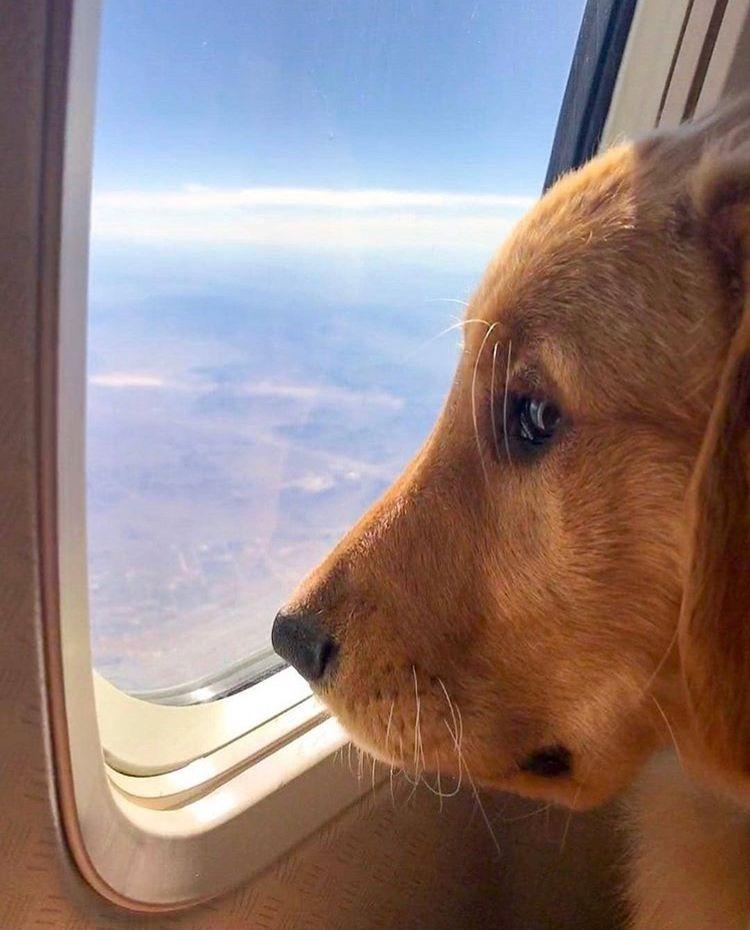puppy-dog: (270, 81, 750, 930)
